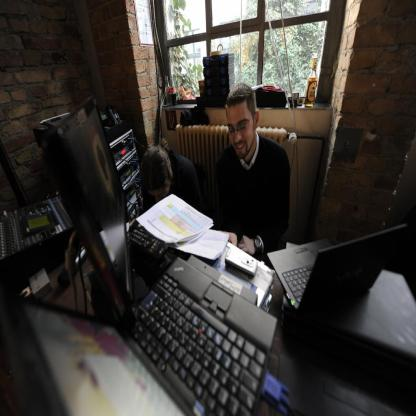board: (19, 257, 276, 415), (268, 226, 405, 317), (306, 52, 319, 107)
